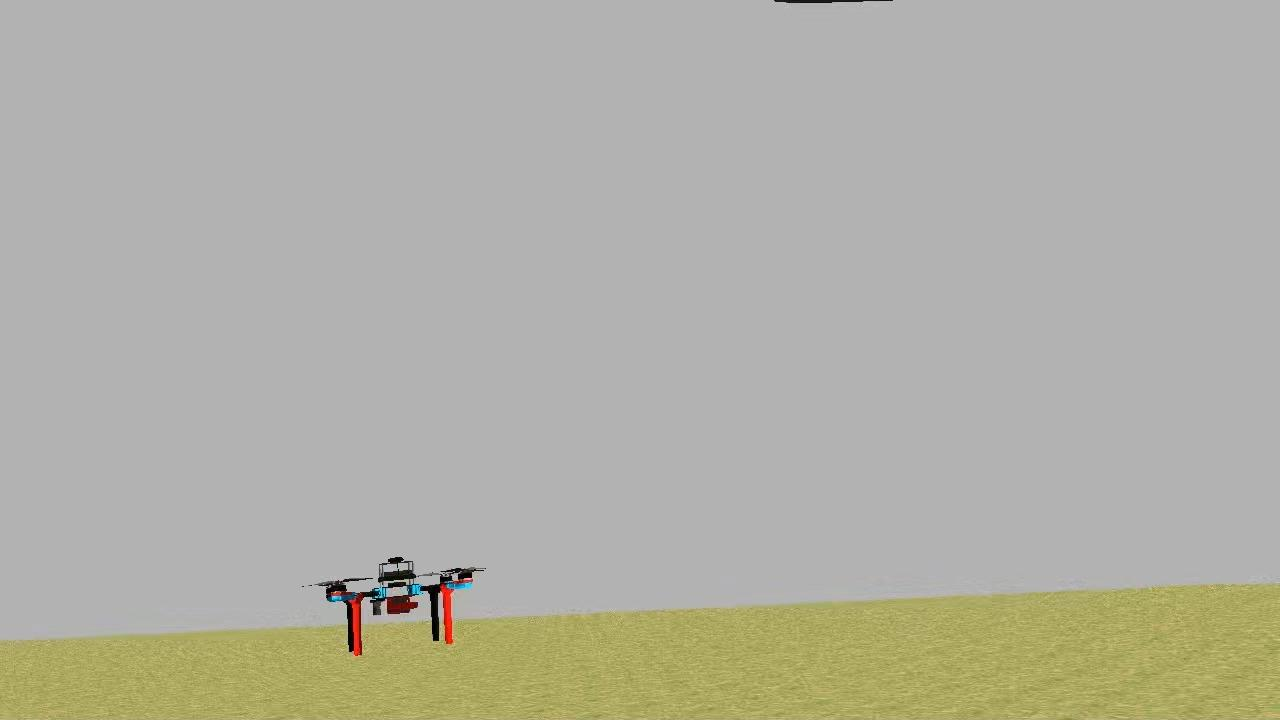UAV: (314, 546, 480, 660)
